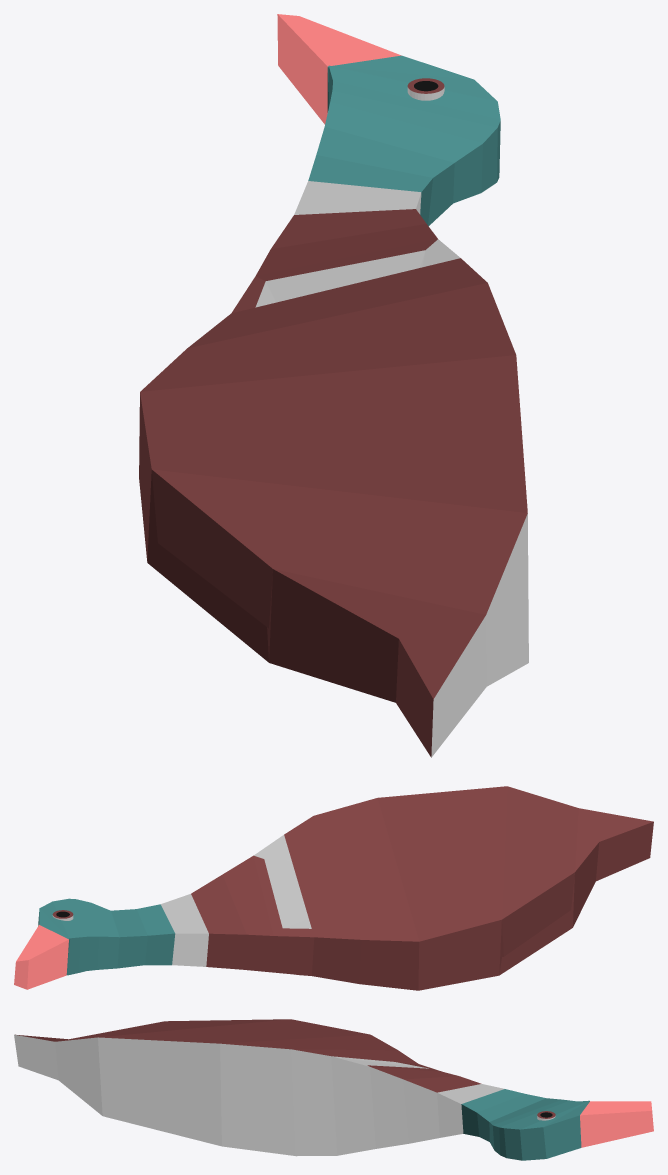
The model's file is firstpartduck.glb.
3 views of the same model, one above another, from view 1: azimuth 30°, elevation 25°; view 2: azimuth 150°, elevation 25°; view 3: azimuth 270°, elevation 25° (orthographic). The views are drawn at different scales.
Parts seen in each view (by area): view 1: Plane; view 2: Plane; view 3: Plane.
Part boxes in pixels (box(x1,y1,x2,y2)): Plane: box(139, 14, 528, 757); Plane: box(14, 786, 653, 990); Plane: box(14, 1019, 653, 1160).
Size of the model in its own units: 6.66 by 2.35 by 12.7.
